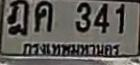1: (115, 3, 124, 33)
3: (75, 1, 90, 32)
4: (93, 2, 108, 33)
A04: (34, 0, 52, 31)
A14: (7, 0, 28, 35)
BKK: (21, 40, 120, 58)
